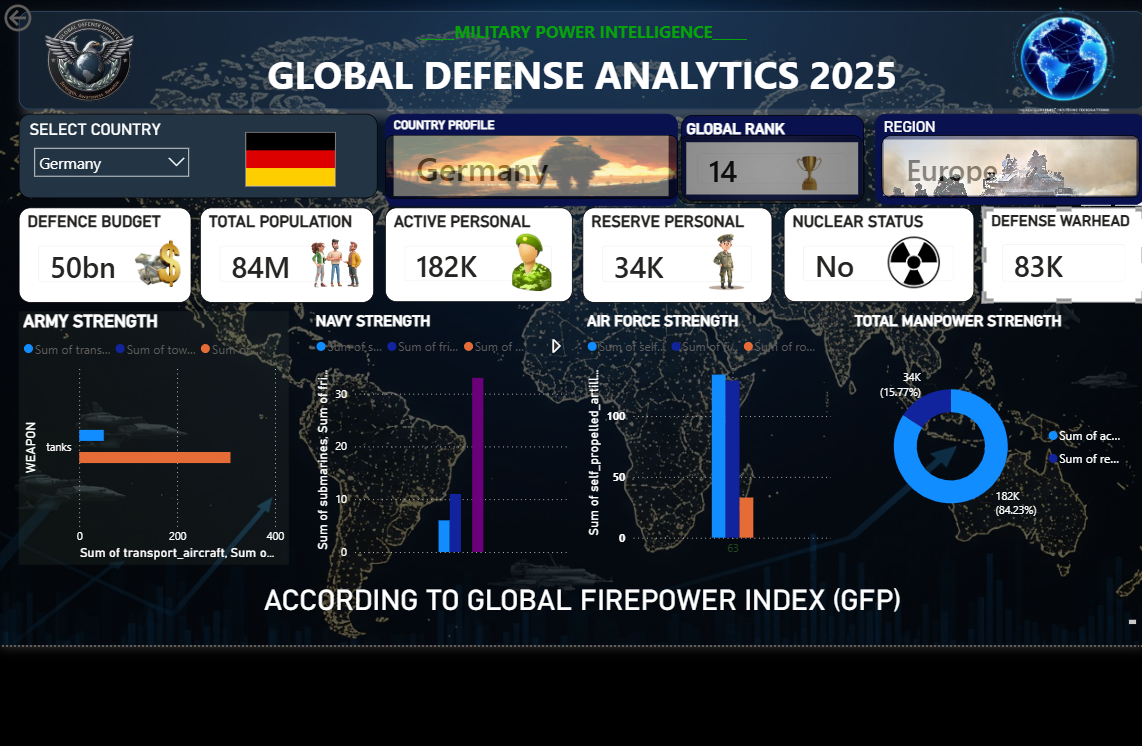

What the dashboard file says about the page in this screenshot:
{"tool":"powerbi","page":{"name":"Page 1","canvas":[1280,720],"ordinal":0},"visuals":[{"type":"textbox","box":[20.6,12.3,1259.7,109.8],"z":0},{"type":"image","box":[8.6,12.9,182.9,108.6],"z":1000},{"type":"image","box":[1108.6,0,160,135.7],"z":2000},{"type":"cardVisual","title":"DEFENCE BUDGET","fields":{"Data":["Sum(Top30.defense_budget_usd)"]},"box":[20.6,231.9,193.5,105.7],"z":3000},{"type":"cardVisual","title":"TOTAL POPULATION","fields":{"Data":["Sum(Top30.total_population)"]},"box":[223.7,231.9,193.5,105.7],"z":4000},{"type":"cardVisual","title":"ACTIVE PERSONAL","fields":{"Data":["Sum(Top30.active_personnel)"]},"box":[429.5,231.9,209.9,105.7],"z":5000},{"type":"cardVisual","title":"RESERVE PERSONAL","fields":{"Data":["Sum(Top30.reserve_personnel)"]},"box":[650.4,231.9,212.7,105.7],"z":6000},{"type":"cardVisual","title":"NUCLEAR STATUS","fields":{"Data":["Min(Top30.Nuclear Status)"]},"box":[875.7,231.4,212.9,105.7],"z":7000},{"type":"cardVisual","title":"DEFENSE WARHEAD","fields":{"Data":["Sum(Top30.ARMOURED VEHICLES)"]},"box":[1097.1,231.4,182.9,105.7],"z":8000},{"type":"textbox","box":[20.6,127.6,400.7,94.7],"z":9000},{"type":"slicer","title":"SELECT COUNTRY","fields":{"Values":["Top30.country"]},"box":[27.4,134.5,193.5,81],"z":10000},{"type":"slicer","fields":{"Values":["Top30.Country Flag URL"]},"box":[242.9,135.8,160.5,79.6],"z":11000},{"type":"actionButton","box":[0,0,100,40],"z":12000},{"type":"cardVisual","title":"COUNTRY PROFILE","fields":{"Data":["Min(Top30.country)"]},"box":[430,127.1,327.1,102.9],"z":13000},{"type":"cardVisual","title":"GLOBAL RANK","fields":{"Data":["Sum(Top30.rank)"]},"box":[761.4,128.6,204.3,95.7],"z":14000},{"type":"cardVisual","title":"REGION","fields":{"Data":["Min(Top30.region)"]},"box":[977.1,127.1,302.9,101.4],"z":15000},{"type":"image","box":[875.7,168.6,57.1,47.1],"z":16000},{"type":"image","box":[430,151.4,327.1,71.4],"z":17000},{"type":"image","box":[757.1,151.4,208.6,77.1],"z":18000},{"type":"image","box":[984.3,151.4,290,70],"z":19000},{"type":"image","box":[545.7,261.4,95.7,64.3],"z":20000},{"type":"image","box":[984.3,261.4,72.9,64.3],"z":21000},{"type":"image","box":[132.9,261.4,78.6,61.4],"z":22000},{"type":"image","box":[347.1,261.4,55.7,65.7],"z":23000},{"type":"image","box":[761.4,257.1,100,70],"z":24000},{"type":"clusteredBarChart","title":"ARMY STRENGTH","fields":{"Category":["Top30.WEAPON"],"Y":["Sum(Top30.transport_aircraft)","Sum(Top30.towed_artillery)","Sum(Top30.total_military_helicopters)"]},"box":[21.4,347.1,301.4,282.9],"z":25000},{"type":"clusteredColumnChart","title":"NAVY STRENGTH","fields":{"Y":["Sum(Top30.submarines)","Sum(Top30.frigates)","Sum(Top30.destroyers)","Sum(Top30.rocket_projectors)"]},"box":[347.1,347.1,292.9,282.9],"z":26000},{"type":"lineClusteredColumnComboChart","title":"AIR FORCE STRENGTH","fields":{"Y":["Sum(Top30.self_propelled_artillery)","Sum(Top30.fighter_aircraft)","Sum(Top30.rocket_projectors)"],"Category":["Top30.attack_aircraft"]},"box":[650,347.1,282.9,282.9],"z":27000},{"type":"donutChart","title":"TOTAL MANPOWER STRENGTH","fields":{"Y":["Sum(Top30.active_personnel)","Sum(Top30.reserve_personnel)"]},"box":[950,347.1,318.6,282.9],"z":27001},{"type":"textbox","title":"ACCORDING TO GLOBAL FIREPOWER INDEX (GFP)","box":[27.1,650,1247.1,51.4],"z":27002}]}

Visuals, with their boxes on the page's 1280x720 design canvas (x1, y1, x2, y2). These are canvas units, not pixel positions in the 1142x746 screenshot, which may show the page scaled, cropped or inside an application window:
textbox: <box>21,12,1280,122</box>
image: <box>9,13,192,122</box>
image: <box>1109,0,1269,136</box>
"DEFENCE BUDGET" cardVisual: <box>21,232,214,338</box>
"TOTAL POPULATION" cardVisual: <box>224,232,417,338</box>
"ACTIVE PERSONAL" cardVisual: <box>430,232,639,338</box>
"RESERVE PERSONAL" cardVisual: <box>650,232,863,338</box>
"NUCLEAR STATUS" cardVisual: <box>876,231,1089,337</box>
"DEFENSE WARHEAD" cardVisual: <box>1097,231,1280,337</box>
textbox: <box>21,128,421,222</box>
"SELECT COUNTRY" slicer: <box>27,134,221,216</box>
slicer - Top30.Country Flag URL: <box>243,136,403,215</box>
actionButton: <box>0,0,100,40</box>
"COUNTRY PROFILE" cardVisual: <box>430,127,757,230</box>
"GLOBAL RANK" cardVisual: <box>761,129,966,224</box>
"REGION" cardVisual: <box>977,127,1280,228</box>
image: <box>876,169,933,216</box>
image: <box>430,151,757,223</box>
image: <box>757,151,966,228</box>
image: <box>984,151,1274,221</box>
image: <box>546,261,641,326</box>
image: <box>984,261,1057,326</box>
image: <box>133,261,212,323</box>
image: <box>347,261,403,327</box>
image: <box>761,257,861,327</box>
"ARMY STRENGTH" clusteredBarChart: <box>21,347,323,630</box>
"NAVY STRENGTH" clusteredColumnChart: <box>347,347,640,630</box>
"AIR FORCE STRENGTH" lineClusteredColumnComboChart: <box>650,347,933,630</box>
"TOTAL MANPOWER STRENGTH" donutChart: <box>950,347,1269,630</box>
"ACCORDING TO GLOBAL FIREPOWER INDEX (GFP)" textbox: <box>27,650,1274,701</box>
